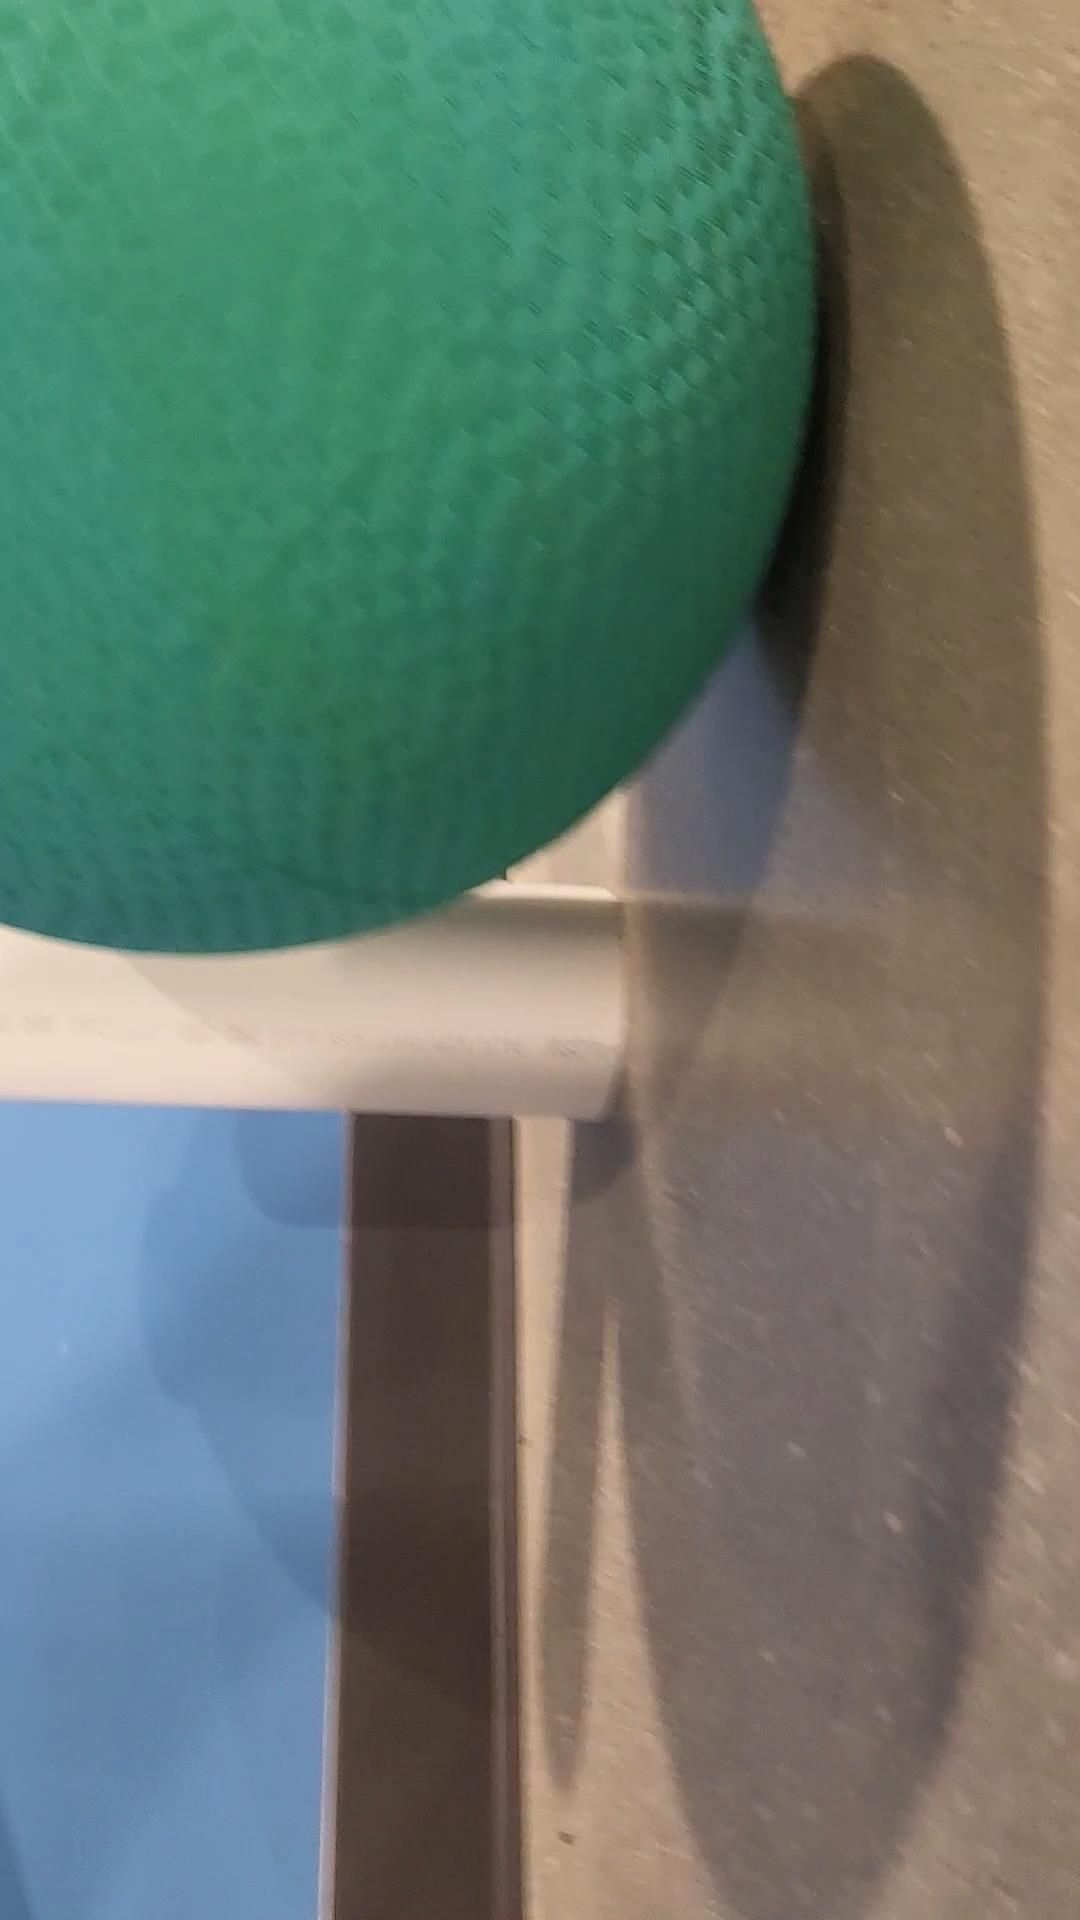algae: (0, 0, 833, 956)
coral: (0, 861, 637, 1137)
